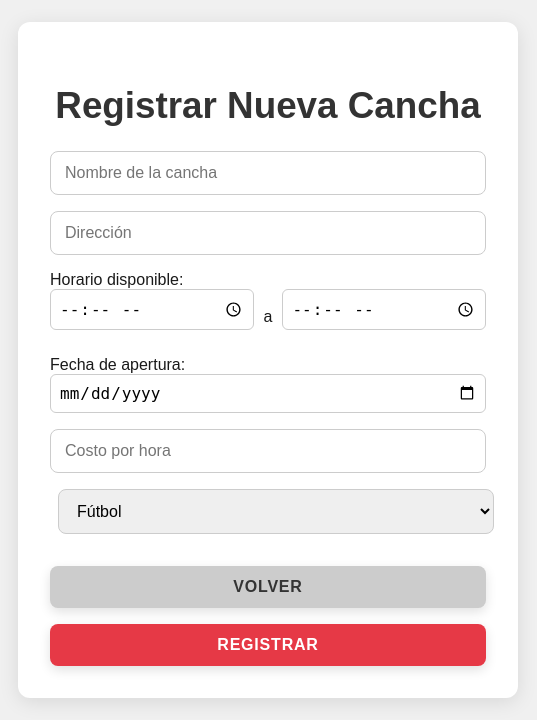
valida costo por hora inválido
In the field with test id "nombre-cancha": [268, 173] box [50,151,486,195], type "Cancha A"
In the field with test id "direccion": [268, 233] box [50,211,486,255], type "Av. 123"
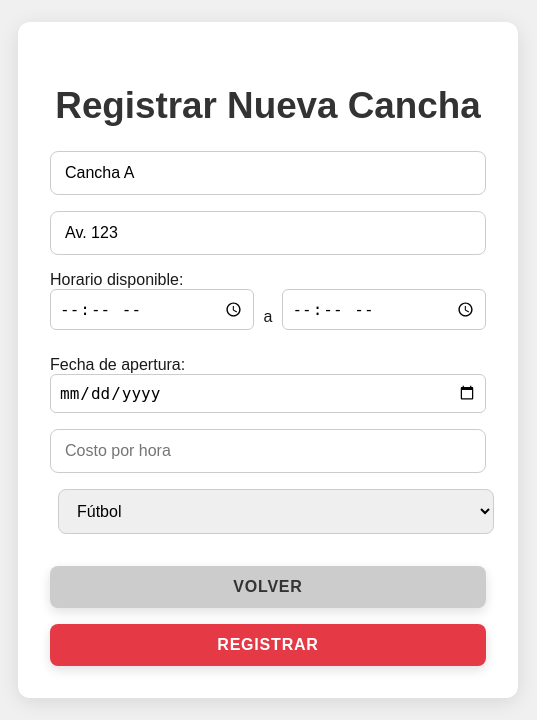
In the time field with test id "hora-inicio": [152, 309] box [50,289,254,330], type "08:00"
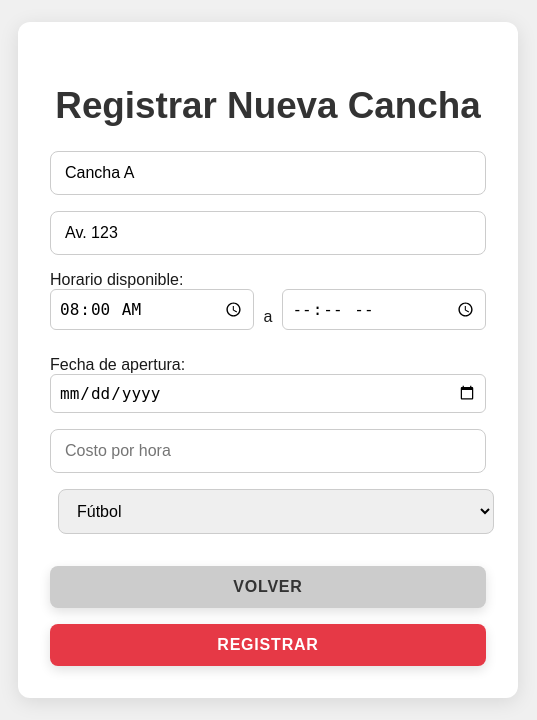
In the time field with test id "hora-fin": [384, 309] box [282,289,486,330], type "22:00"
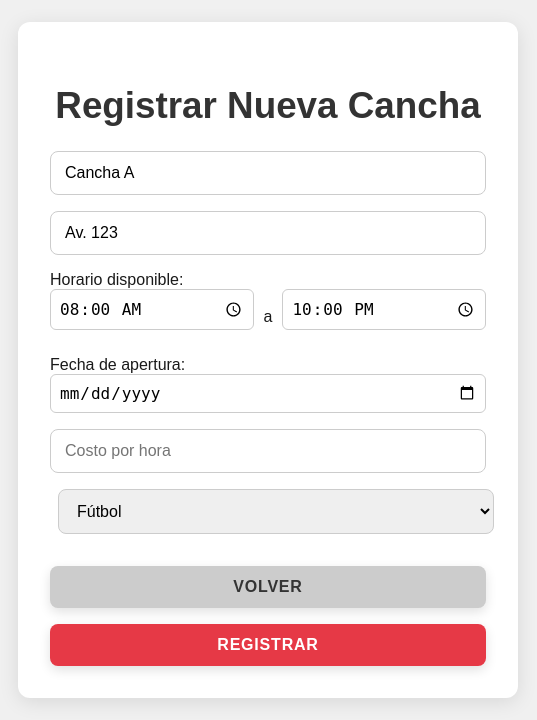
In the date field with test id "fecha-apertura": [268, 393] box [50,374,486,413], type "2025-06-27"
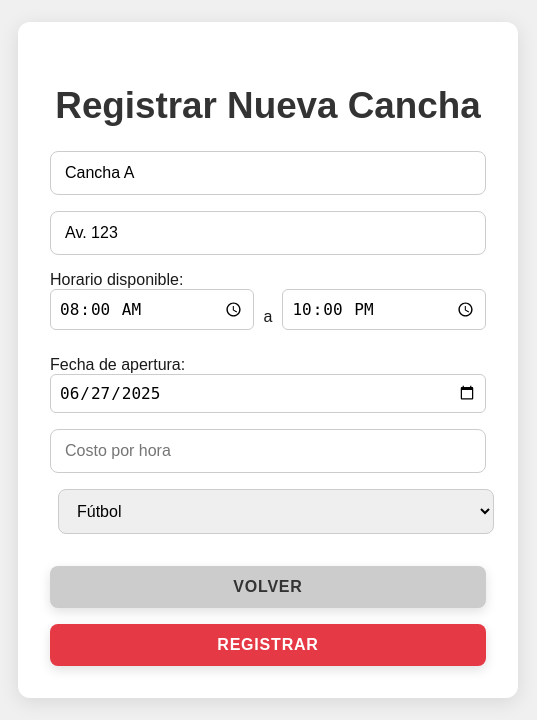
In the field with test id "costo-por-hora": [268, 451] box [50,429,486,473], type "abc"
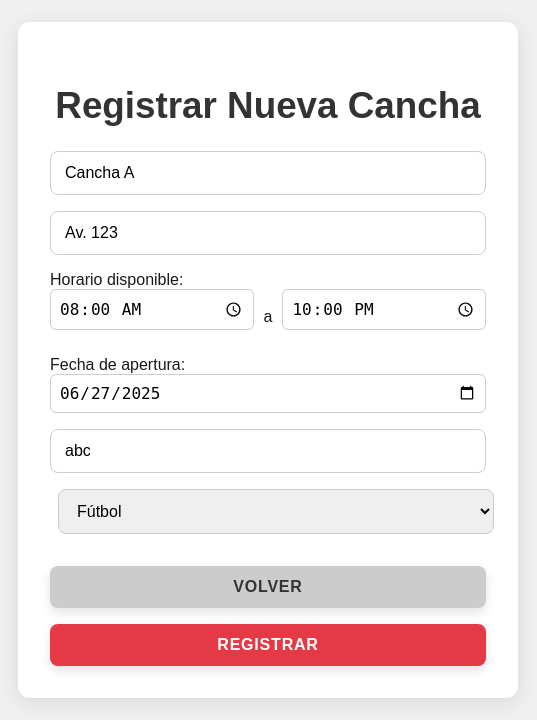
Click the button "Registrar": [268, 645] box [50,624,486,666]
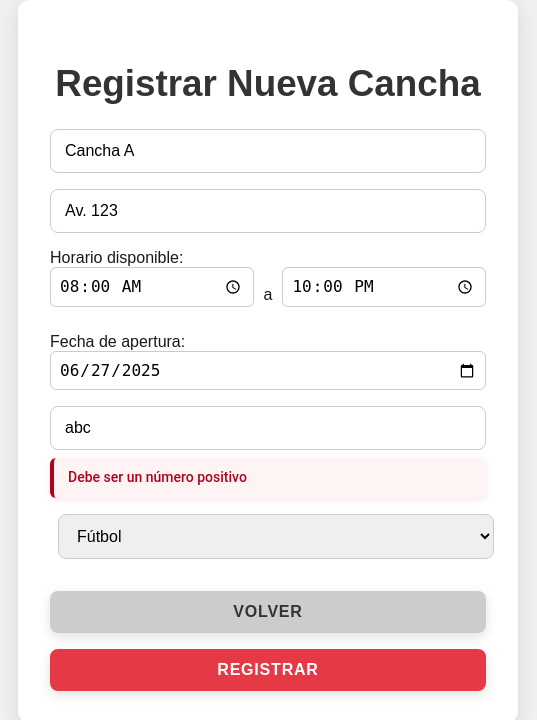
Check: the text "Debe ser un número positivo" is shown, box [50,458,486,498]
